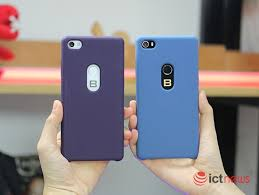bphone: (57, 33, 126, 163), (134, 31, 203, 161)
